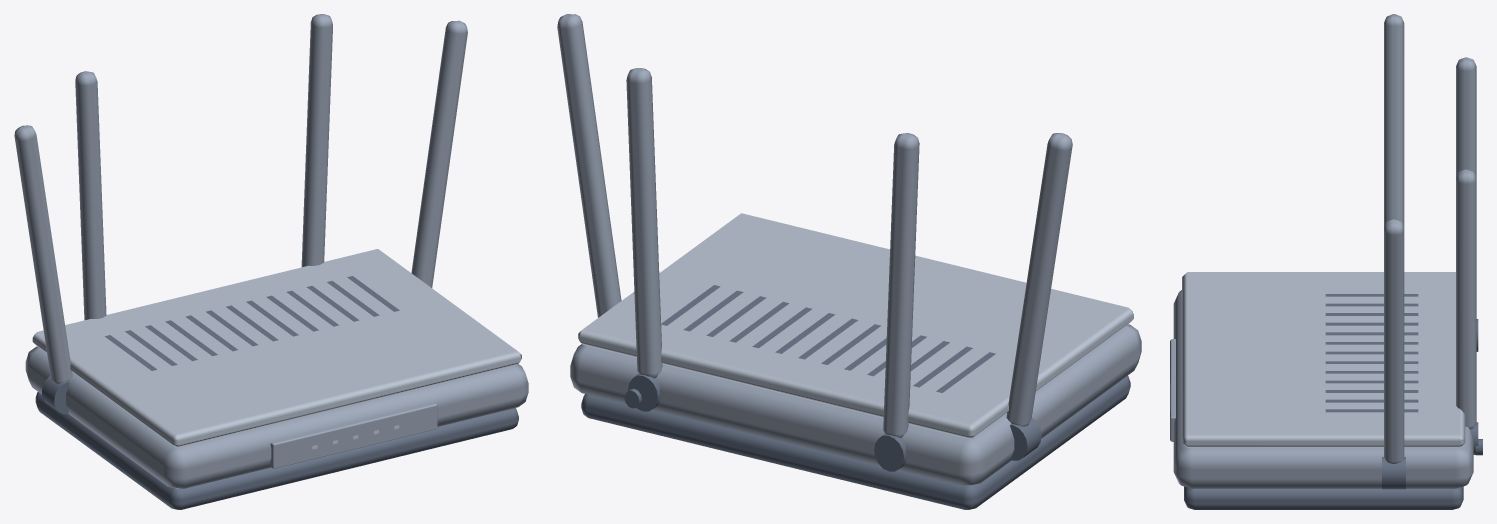
File: router-lite.glb
The picture shows the model from 3 angles, left to right: view 1: azimuth 30°, elevation 25°; view 2: azimuth 150°, elevation 25°; view 3: azimuth 270°, elevation 25°; orthographic projection. The views are drawn at different scales.
Parts seen in each view (by area): view 1: router; view 2: router; view 3: router.
Part boxes in pixels (x1,y1,x2,y2): router: (14,14,528,509); router: (557,14,1141,509); router: (1170,14,1482,509).
Size of the model in its own units: 0.287 by 0.205 by 0.177.
